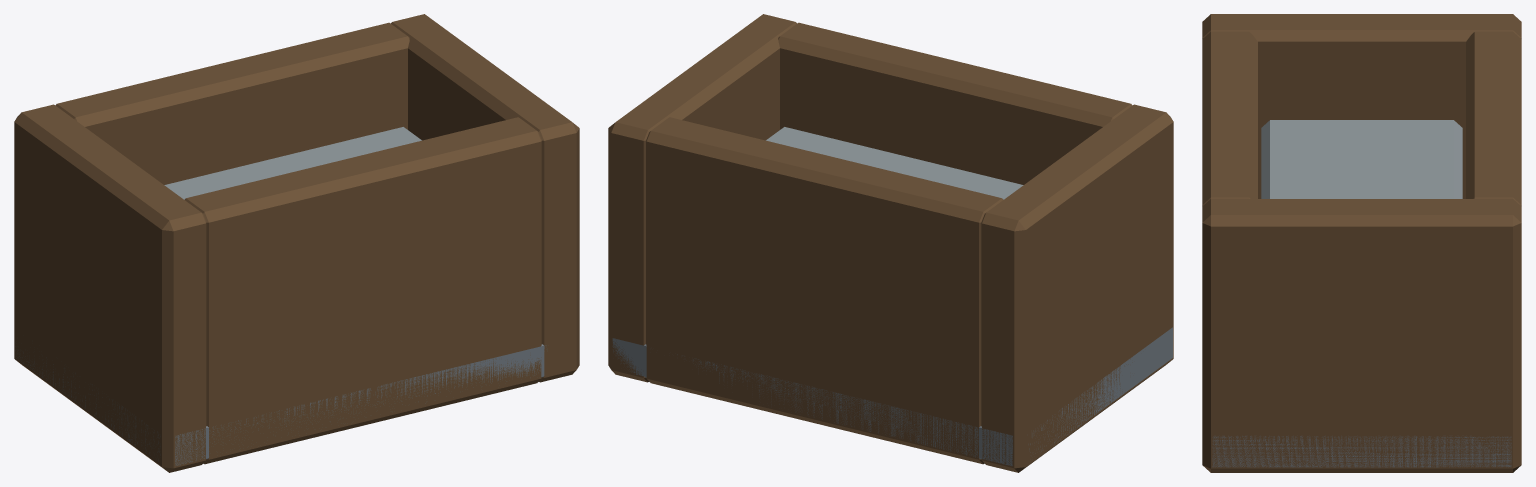
File: town_wash_tub.glb
3 renders of one model, left to right at view 1: azimuth 30°, elevation 25°; view 2: azimuth 150°, elevation 25°; view 3: azimuth 270°, elevation 25°, orthographic. The views are drawn at different scales.
Size of the model in its own units: 1.42 by 0.82 by 0.92.
